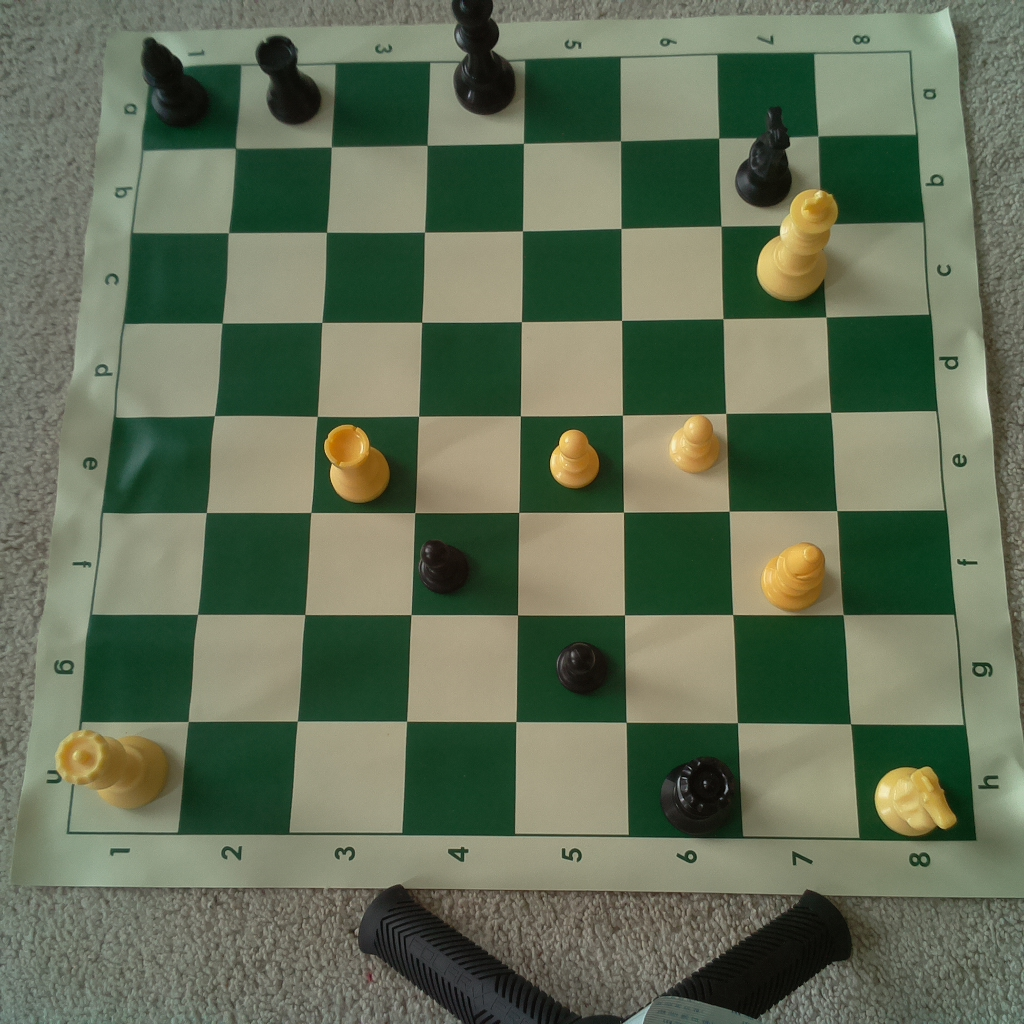black_bishop: (134, 32, 214, 131)
black_king: (440, 1, 518, 114)
black_knight: (733, 102, 796, 208)
black_pawn: (415, 530, 479, 595), (553, 635, 614, 699)
black_queen: (657, 751, 738, 832)
black_rook: (253, 30, 324, 125)
file_a: (141, 52, 916, 152)
file_b: (132, 136, 924, 236)
file_c: (124, 223, 931, 325)
file_d: (115, 314, 937, 419)
file_e: (103, 409, 946, 508)
file_f: (90, 510, 957, 615)
file_g: (79, 615, 964, 727)
file_h: (66, 719, 977, 840)
outline: (70, 51, 976, 839)
rank_1: (68, 66, 242, 833)
rank_2: (179, 65, 336, 834)
rank_3: (285, 64, 431, 834)
rank_4: (403, 64, 524, 834)
rank_5: (514, 61, 633, 835)
rank_6: (621, 57, 746, 838)
rank_7: (718, 53, 863, 840)
rank_8: (815, 54, 975, 840)
white_bishop: (754, 536, 829, 614)
white_king: (754, 186, 840, 305)
white_knight: (868, 757, 964, 839)
white_pawn: (541, 422, 603, 491), (666, 410, 725, 477)
white_queen: (45, 723, 175, 818)
white_rook: (318, 419, 392, 505)
